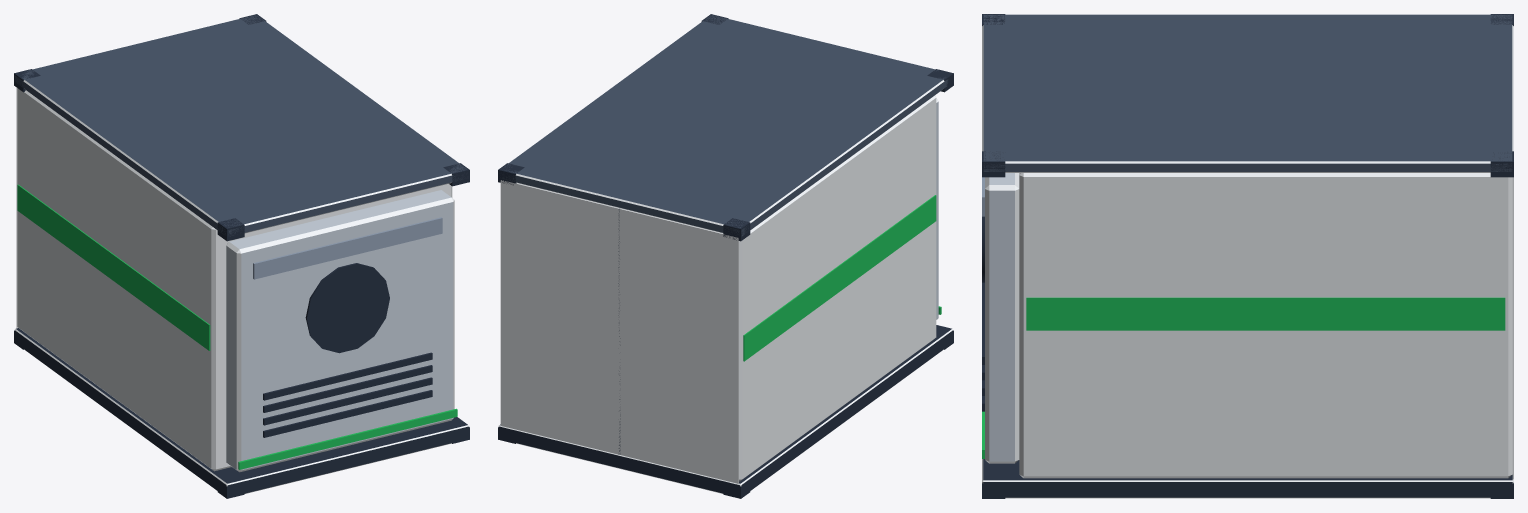
File: reefer_12ft.glb
3 renders of one model, left to right at view 1: azimuth 30°, elevation 25°; view 2: azimuth 150°, elevation 25°; view 3: azimuth 270°, elevation 25°, orthographic. The views are drawn at different scales.
Visible parts, largest first — view 1: reefer_12ft; view 2: reefer_12ft; view 3: reefer_12ft.
Part boxes in pixels (x1=…): reefer_12ft: x1=14, y1=14, x2=469, y2=498; reefer_12ft: x1=498, y1=14, x2=953, y2=498; reefer_12ft: x1=982, y1=14, x2=1513, y2=498.
Size of the model in its own units: 2.45 by 2.6 by 3.72.
